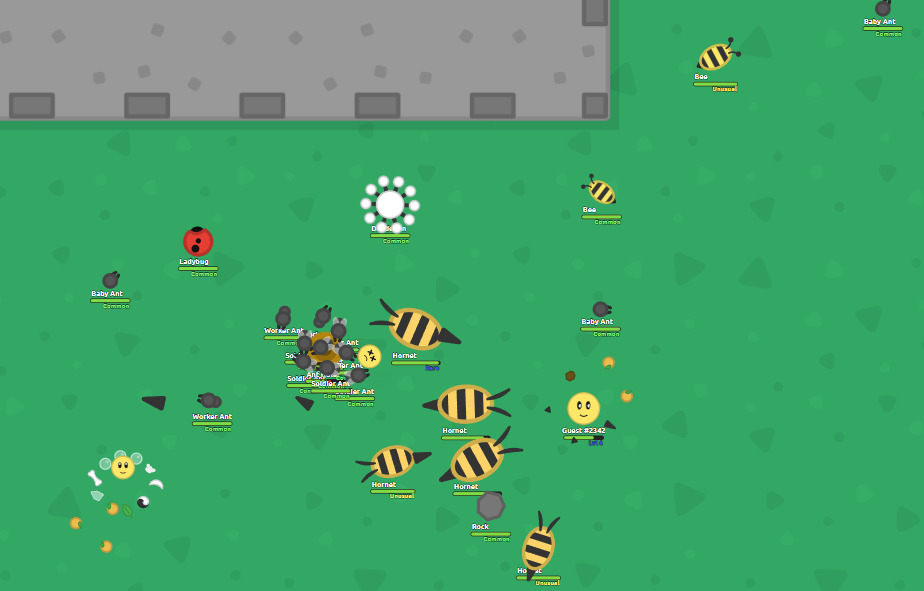Ant Hole: (306, 332, 344, 367)
Baby Ant: (101, 270, 121, 290), (591, 300, 613, 318), (873, 0, 892, 18)
Bee: (695, 43, 734, 73), (586, 178, 618, 206)
Dandelion: (359, 175, 421, 235)
Hornet: (438, 438, 505, 484), (421, 385, 495, 424), (388, 305, 445, 350), (368, 445, 433, 478), (521, 524, 556, 582)
Ladybug: (182, 226, 214, 258)
Rock: (475, 490, 506, 522)
Soldier Ant: (290, 353, 318, 373), (341, 366, 370, 385), (333, 341, 358, 363), (309, 336, 336, 356), (314, 359, 342, 377), (330, 316, 348, 343), (295, 329, 313, 355)
Worker Ant: (313, 304, 333, 328), (274, 305, 292, 330), (197, 393, 223, 409)
